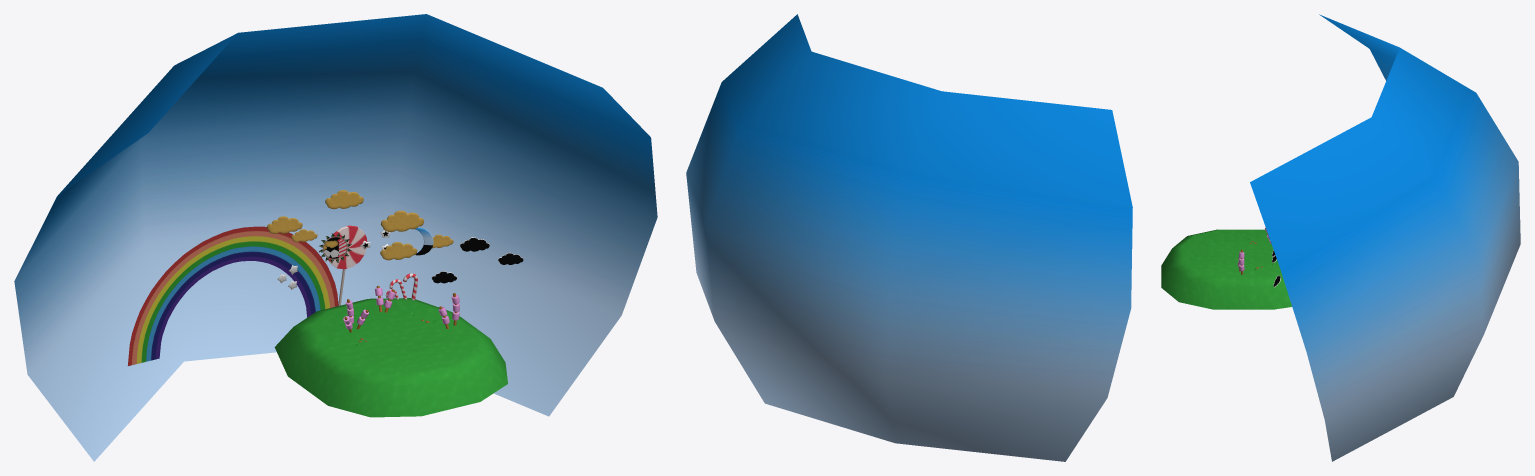
Rendered from Uni_Level.fbx.
3 views of the same model, side by side, from view 1: azimuth 30°, elevation 25°; view 2: azimuth 150°, elevation 25°; view 3: azimuth 270°, elevation 25° (orthographic). The views are drawn at different scales.
Parts seen in each view (by area): view 1: Uni_Level_Sky, Floor, Rainbow, Lolipop, Cloud_5; view 2: Uni_Level_Sky; view 3: Uni_Level_Sky, Floor.
Part boxes in pixels (x1,y1,x2,y2): Uni_Level_Sky: (14, 14, 657, 461); Floor: (274, 298, 507, 417); Rainbow: (128, 226, 338, 365); Lolipop: (328, 225, 367, 305); Cloud_5: (381, 210, 423, 232); Uni_Level_Sky: (686, 14, 1132, 461); Uni_Level_Sky: (1250, 14, 1520, 461); Floor: (1161, 229, 1291, 309).
Size of the model in its own units: 5825 by 3997 by 4123.
